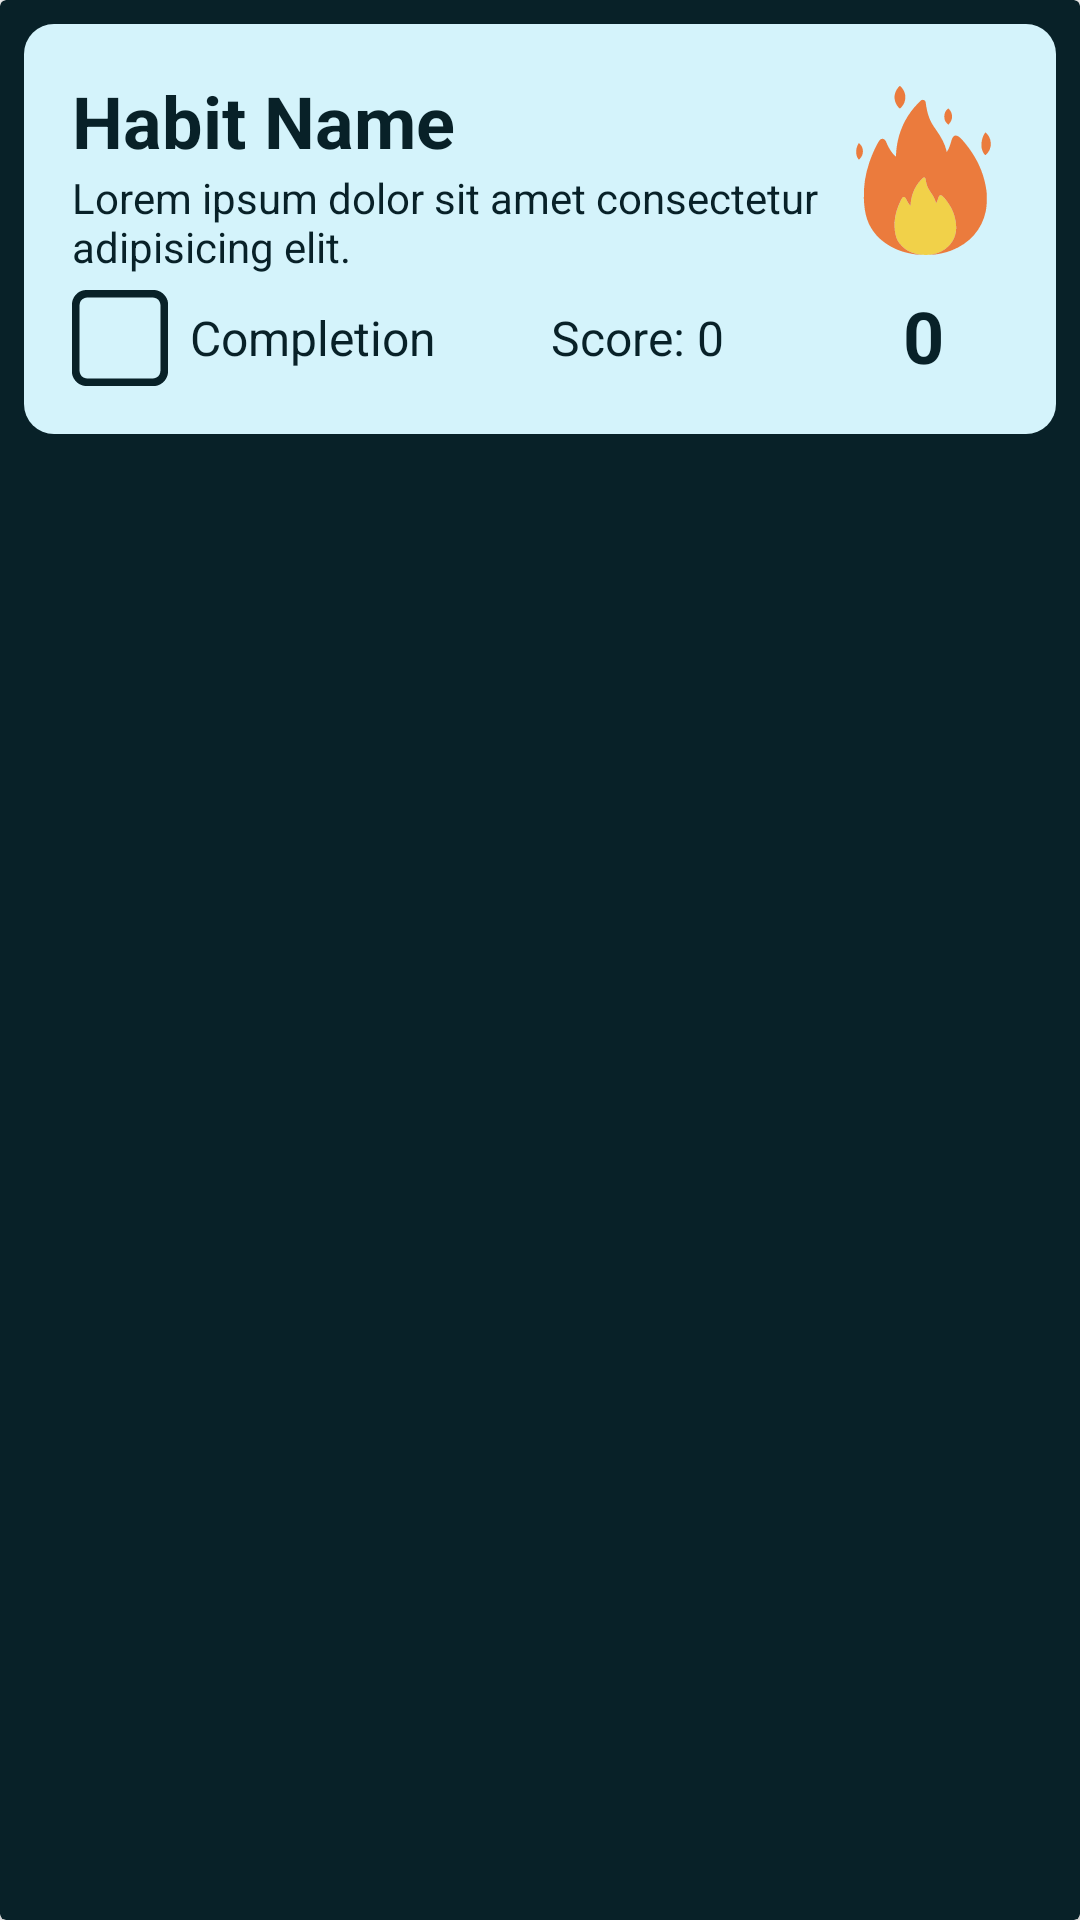

Icon click points for this 1080w x 1920h phone screenshot, format (x,y):
checkbox: (120,338)
fire: (923,170)
